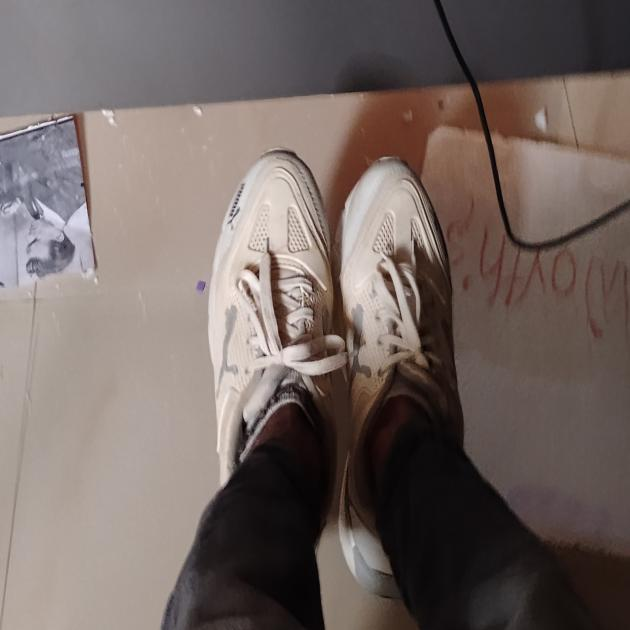shoes: (182, 121, 485, 493)
